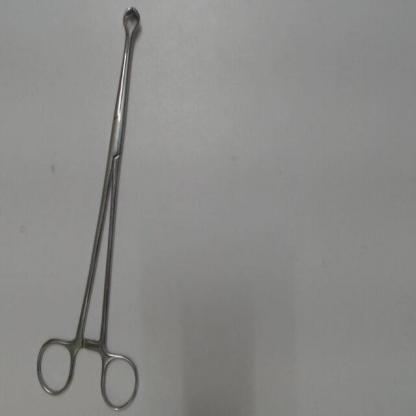8 Babcock Tissue Forceps: (28, 4, 147, 415)
